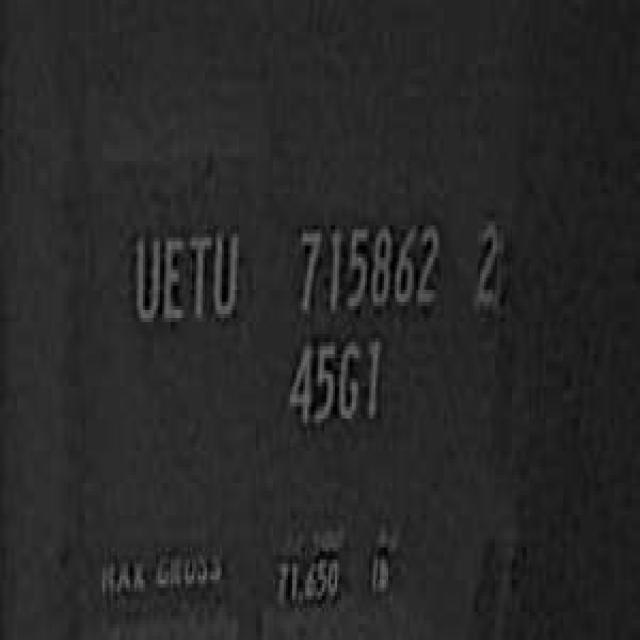dv: (469, 205, 506, 314)
owner: (124, 217, 241, 334)
serial: (290, 209, 442, 322)
size: (282, 330, 384, 435)
